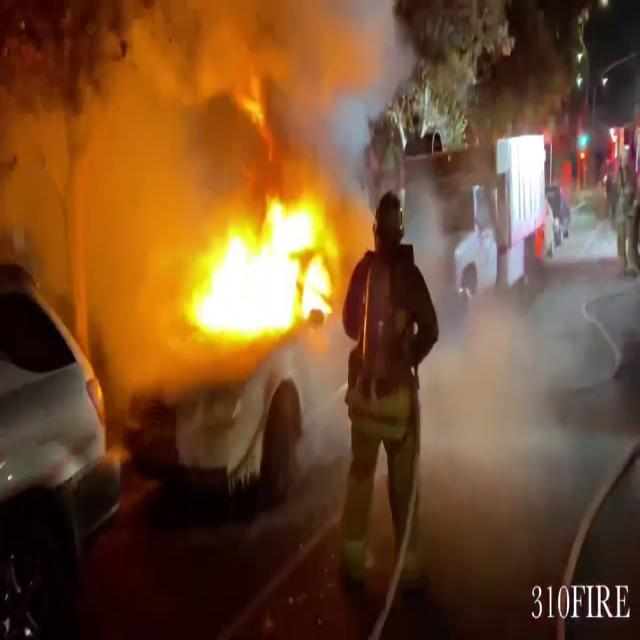Fire: (176, 188, 341, 348)
Smoke: (5, 0, 416, 244)
